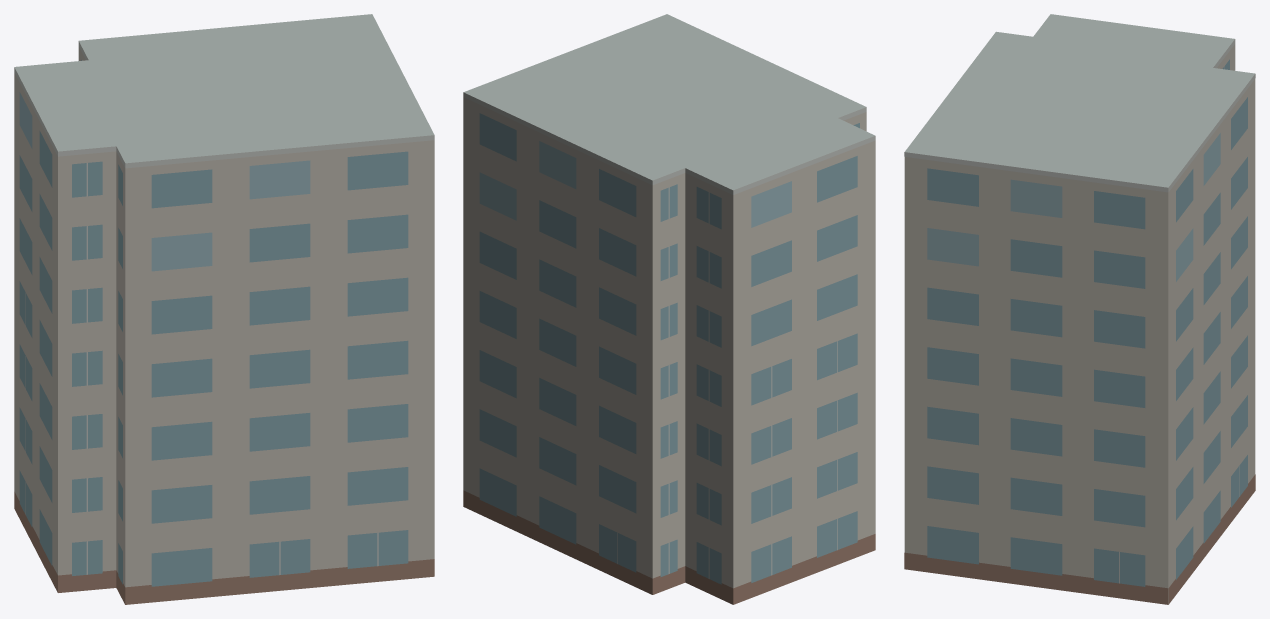
The model's file is survey-upis-32957423.glb.
The picture shows the model from 3 angles, left to right: view 1: azimuth 30°, elevation 25°; view 2: azimuth 150°, elevation 25°; view 3: azimuth 270°, elevation 25°; orthographic projection. The views are drawn at different scales.
Parts seen in each view (by area): view 1: survey-upis-32957423.tmp; view 2: survey-upis-32957423.tmp; view 3: survey-upis-32957423.tmp.
Part boxes in pixels (bbox=[...]): survey-upis-32957423.tmp: bbox=[14, 14, 434, 604]; survey-upis-32957423.tmp: bbox=[463, 14, 875, 604]; survey-upis-32957423.tmp: bbox=[904, 14, 1255, 604].
Size of the model in its own units: 19.07 by 21.35 by 16.29.
